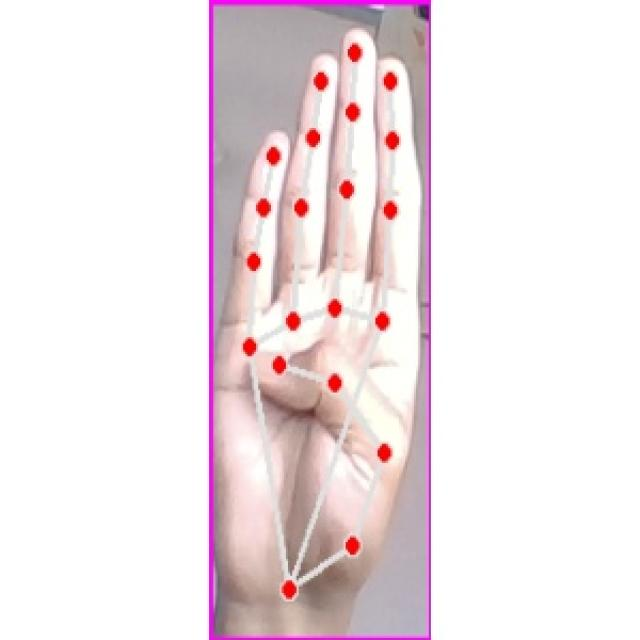B: (222, 21, 420, 614)
